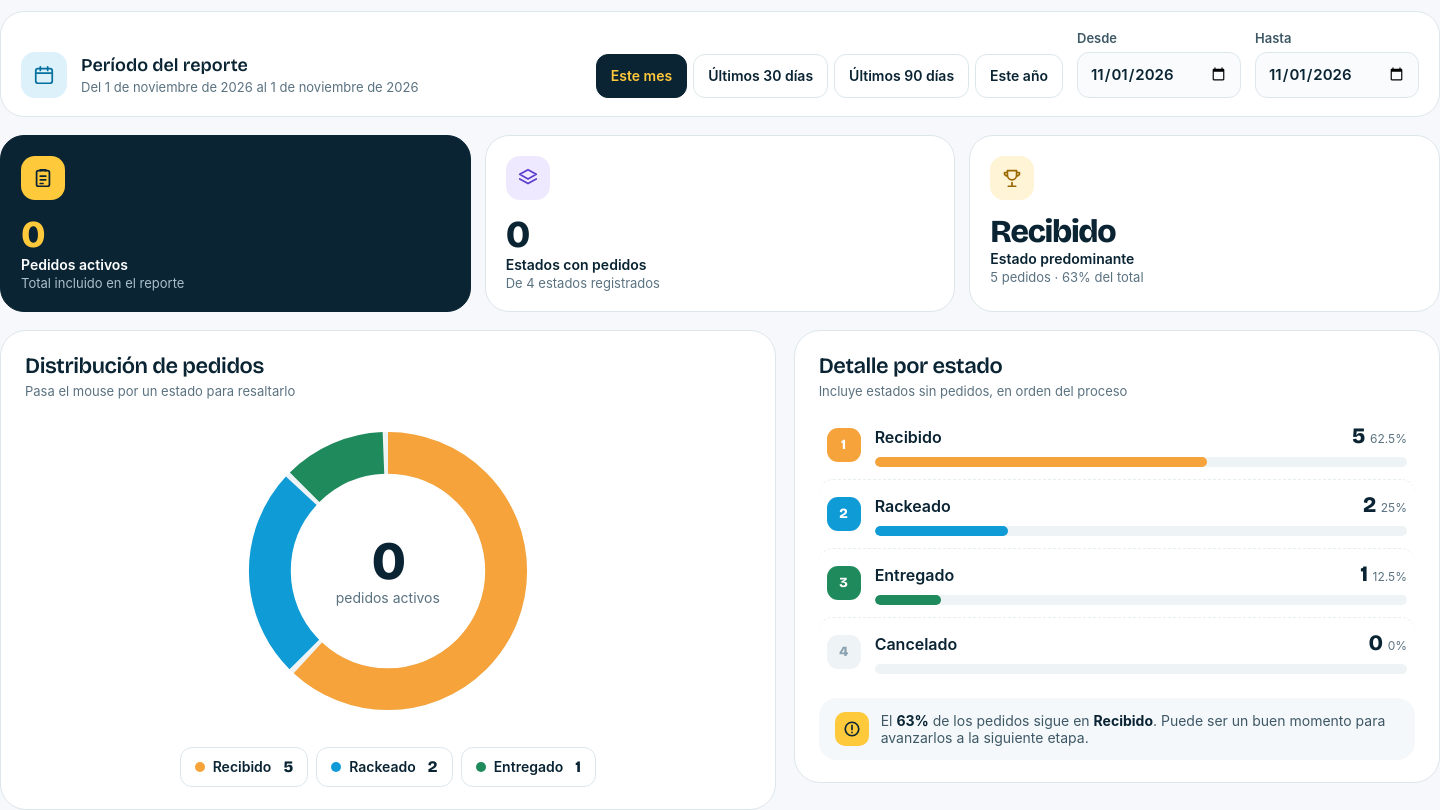
OrdersByStatusReportPage › muestra el resumen, la dona y todos los estados en orden
(page scrolled)
Check: the text "De 4 estados registrados" is shown, box [506,275,660,291]
Check: the text "5 pedidos · 63% del total" is shown, box [990,269,1144,285]
Hover over the button "Rackeado 2": (384, 767) [316,747,453,787]
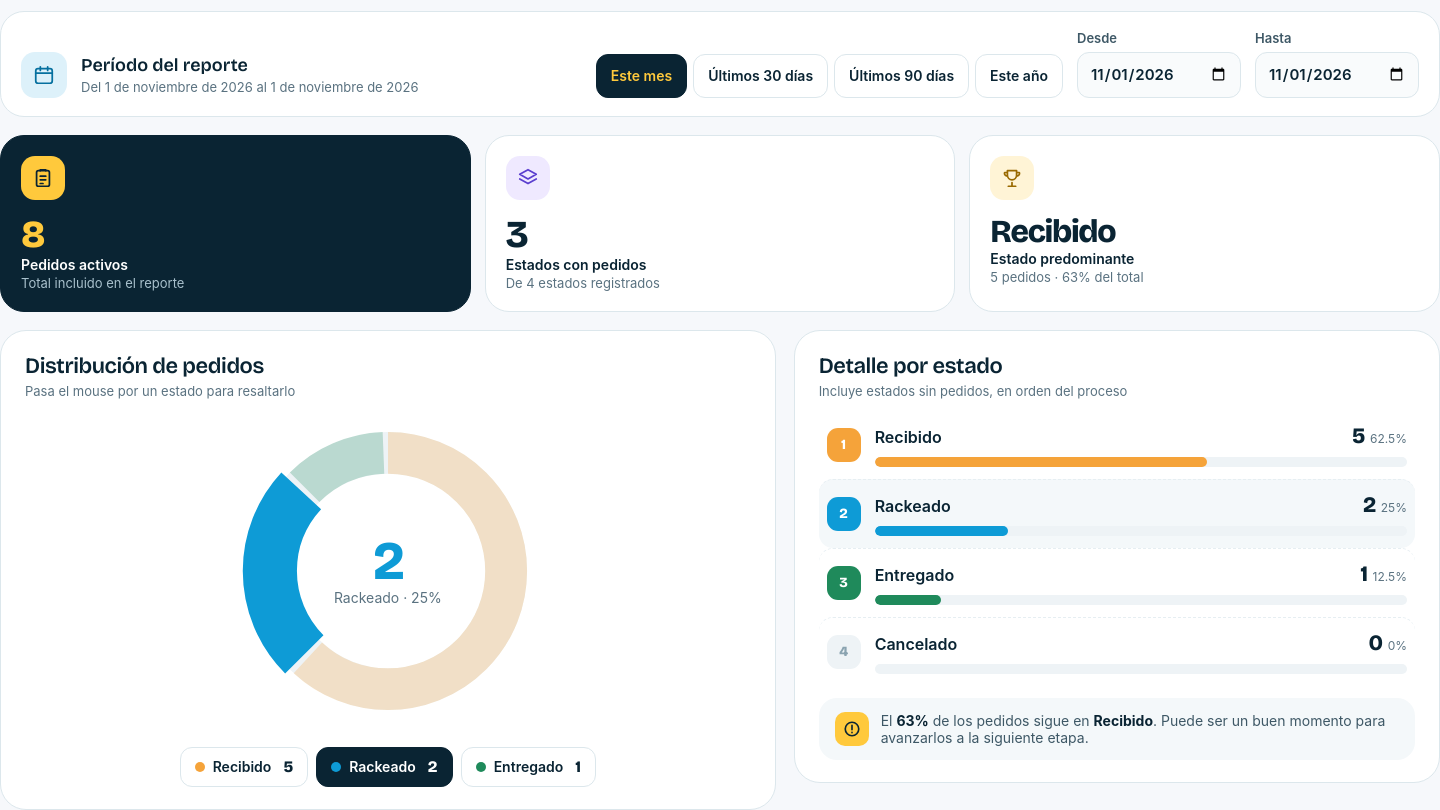
Check: the text "Rackeado · 25%" is shown, box [334,589,442,606]
